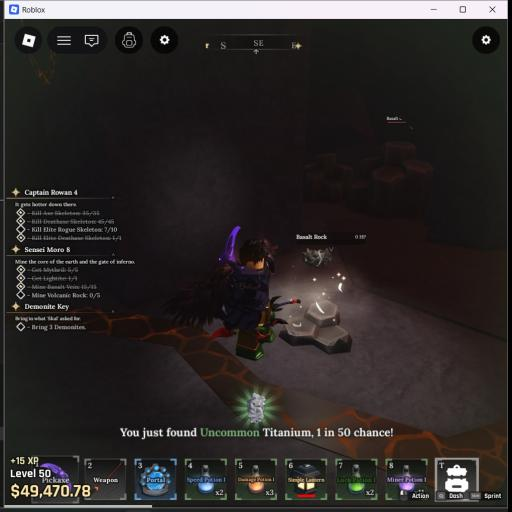player: (165, 237, 287, 360)
rock: (347, 141, 433, 218), (279, 300, 351, 354), (304, 153, 352, 203)
